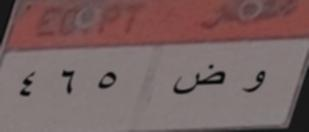4: (13, 64, 40, 106)
5: (88, 64, 130, 105)
6: (54, 62, 81, 100)
daad: (172, 61, 230, 107)
waw: (237, 57, 279, 105)
